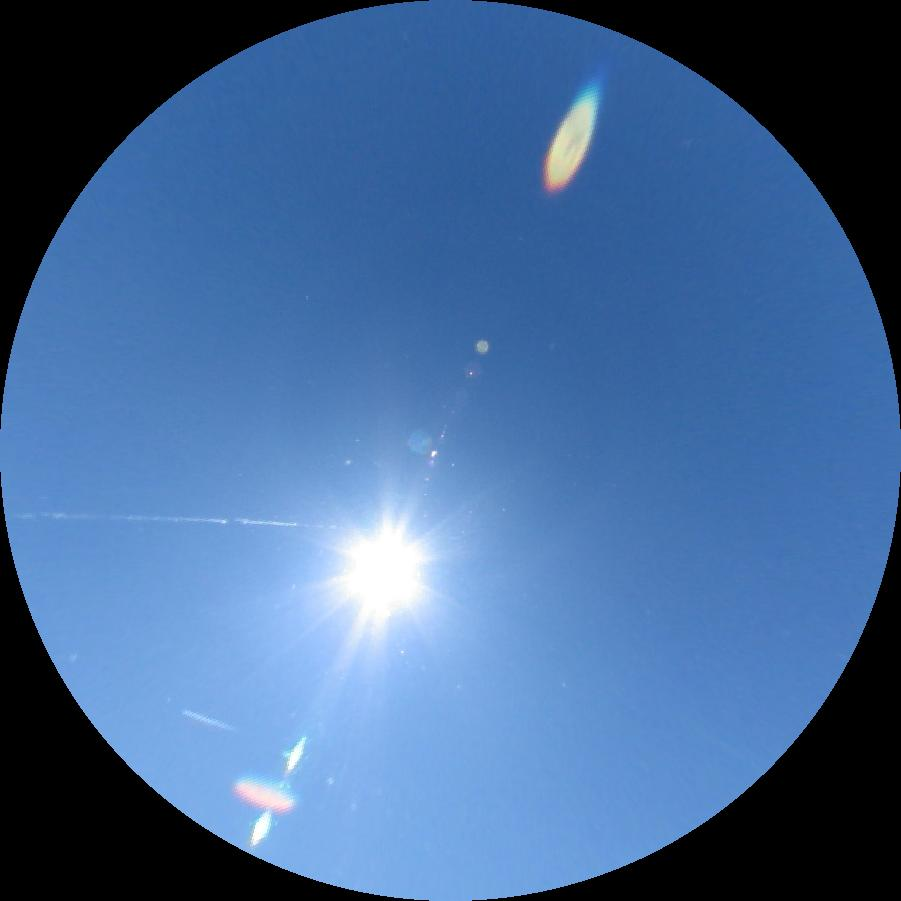contrail young: (178, 709, 234, 732)
parasite: (6, 511, 336, 528)
sun: (337, 522, 421, 617)
